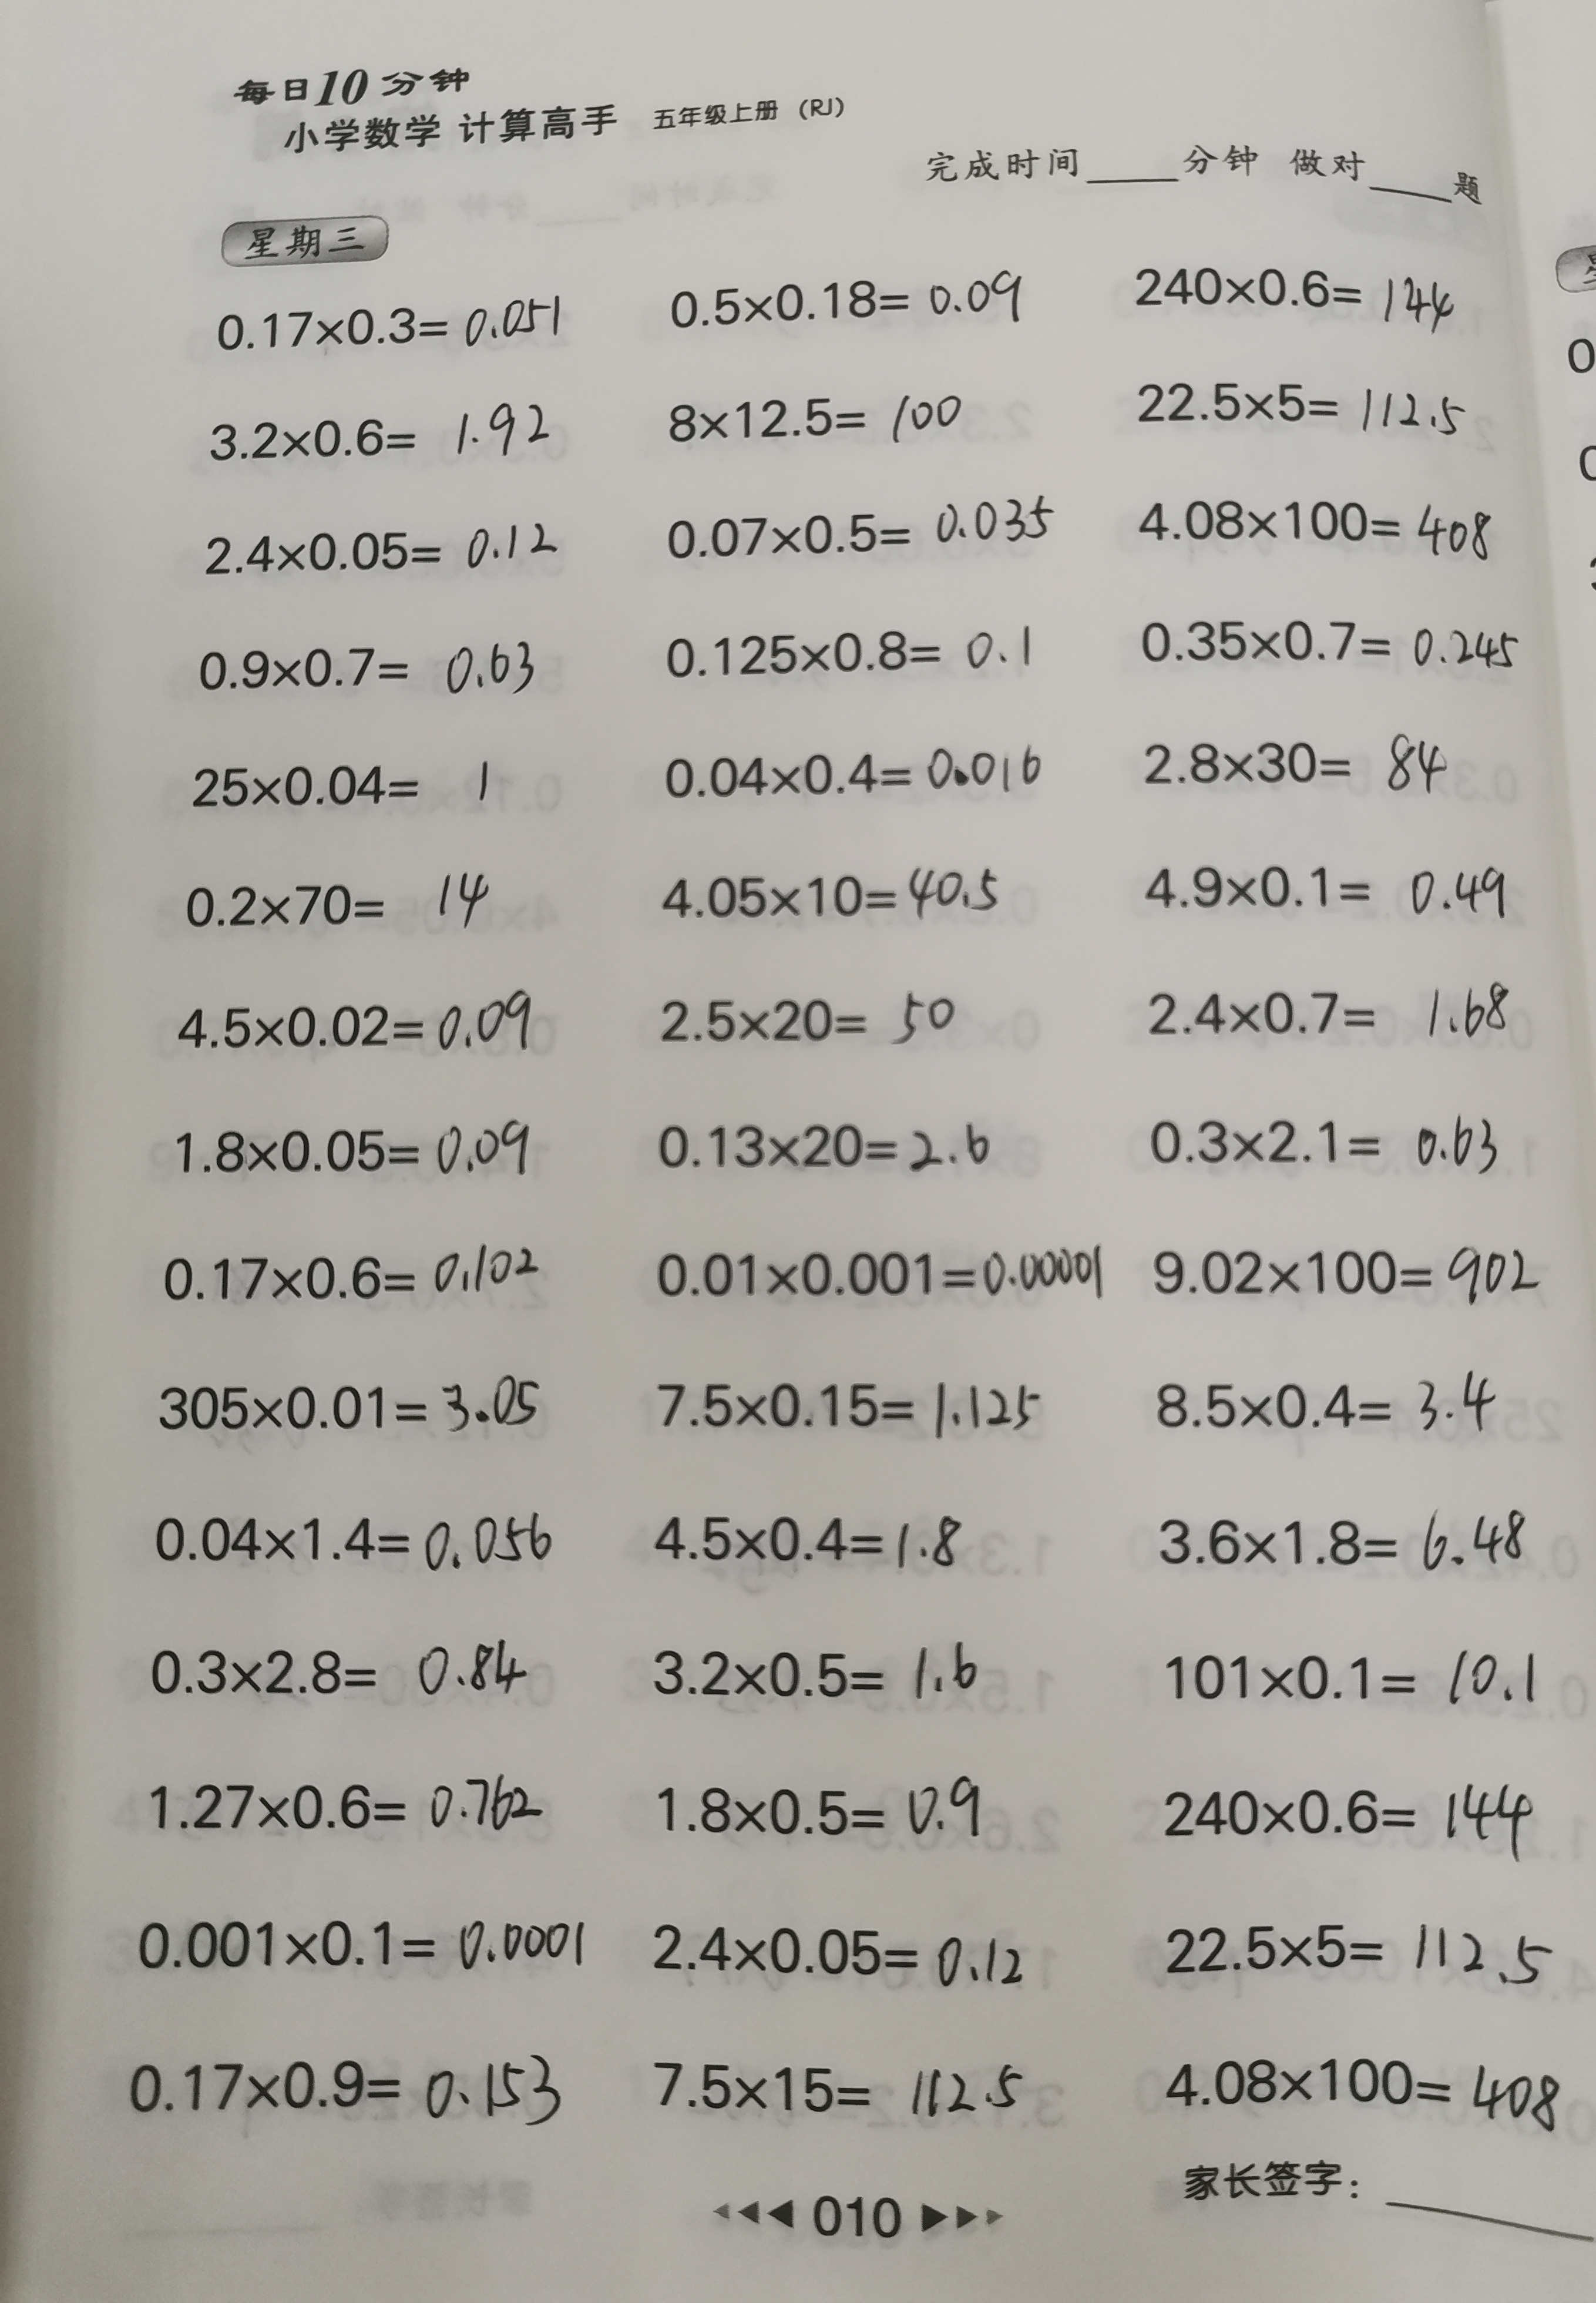equation: (114, 2033, 581, 2138), (1141, 1893, 1559, 2004), (135, 1892, 598, 1988), (1146, 2037, 1578, 2140), (639, 1230, 1122, 1319), (1143, 1764, 1554, 1864), (135, 1491, 563, 1584), (1137, 1498, 1550, 1594), (1143, 1631, 1556, 1727), (644, 1906, 1038, 2002), (1132, 1094, 1519, 1190), (1146, 1222, 1543, 1314), (1120, 968, 1528, 1057), (135, 1624, 534, 1715), (635, 2037, 1038, 2126), (639, 724, 1060, 808), (646, 481, 1066, 565), (1127, 842, 1528, 929), (639, 1762, 1017, 1855), (135, 1766, 562, 1844), (1130, 1361, 1522, 1447), (639, 1367, 1064, 1445), (1122, 481, 1503, 569), (177, 623, 556, 710), (1118, 248, 1466, 343), (1116, 367, 1480, 457), (1137, 605, 1526, 688), (147, 1367, 567, 1442), (157, 850, 518, 938), (145, 1228, 553, 1305), (646, 1099, 1010, 1185), (637, 1620, 997, 1706), (150, 982, 555, 1057), (163, 742, 527, 824), (649, 845, 1020, 926), (185, 388, 572, 465), (651, 264, 1038, 339), (1129, 724, 1473, 807), (640, 614, 1046, 682), (644, 975, 980, 1057), (189, 282, 581, 352), (177, 513, 586, 579), (639, 1494, 973, 1575), (159, 1115, 549, 1183), (653, 378, 976, 450)
